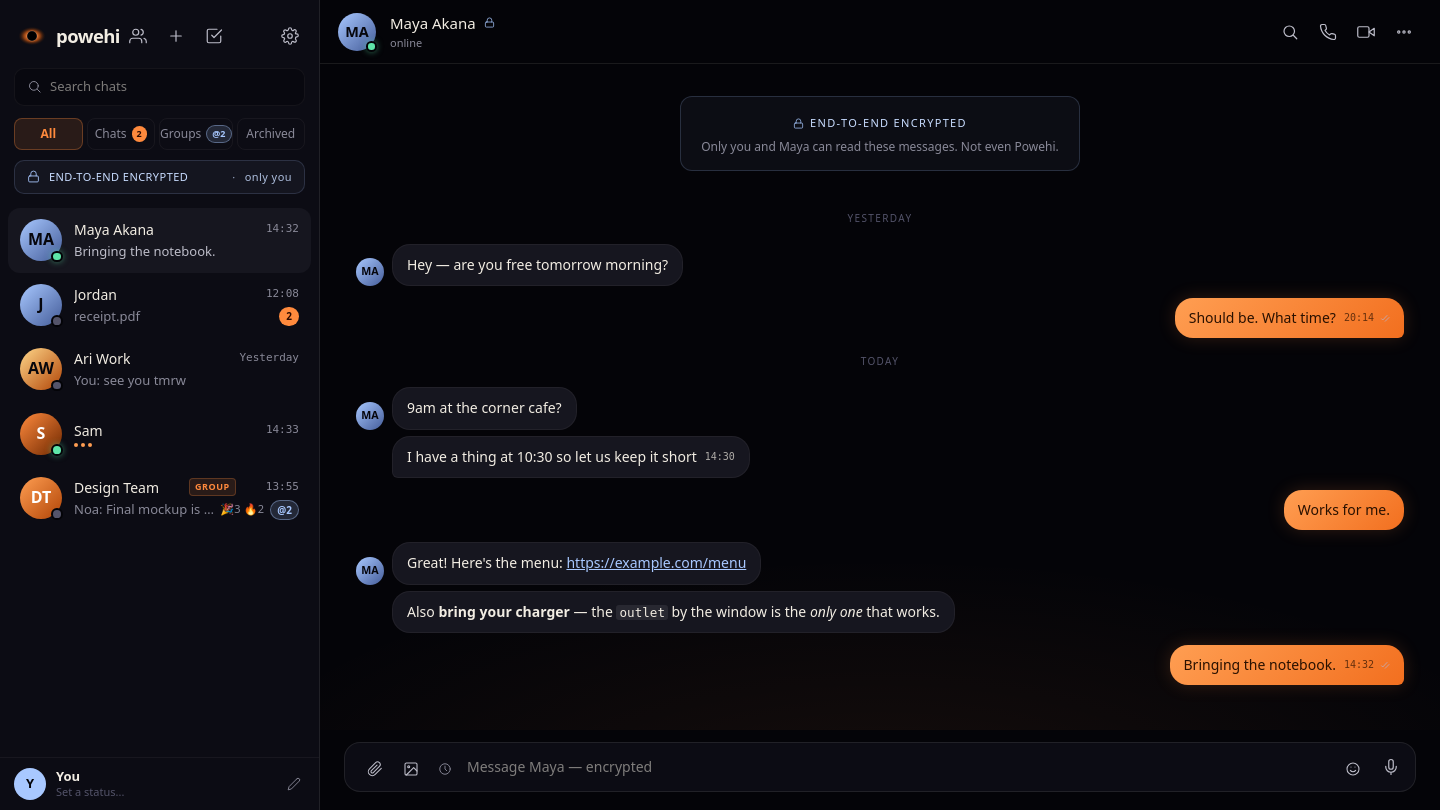
Test: ChatLayout — group poll feature › Cancel closes the poll creator without creating a poll
The image size is (1440, 810).
Step 1. Click the button "DT Design Team GROUP 13:55 Noa: Final mockup is up 🎉3 🔥2 @2" → coordinates (160, 498), box [8,466,311,530]
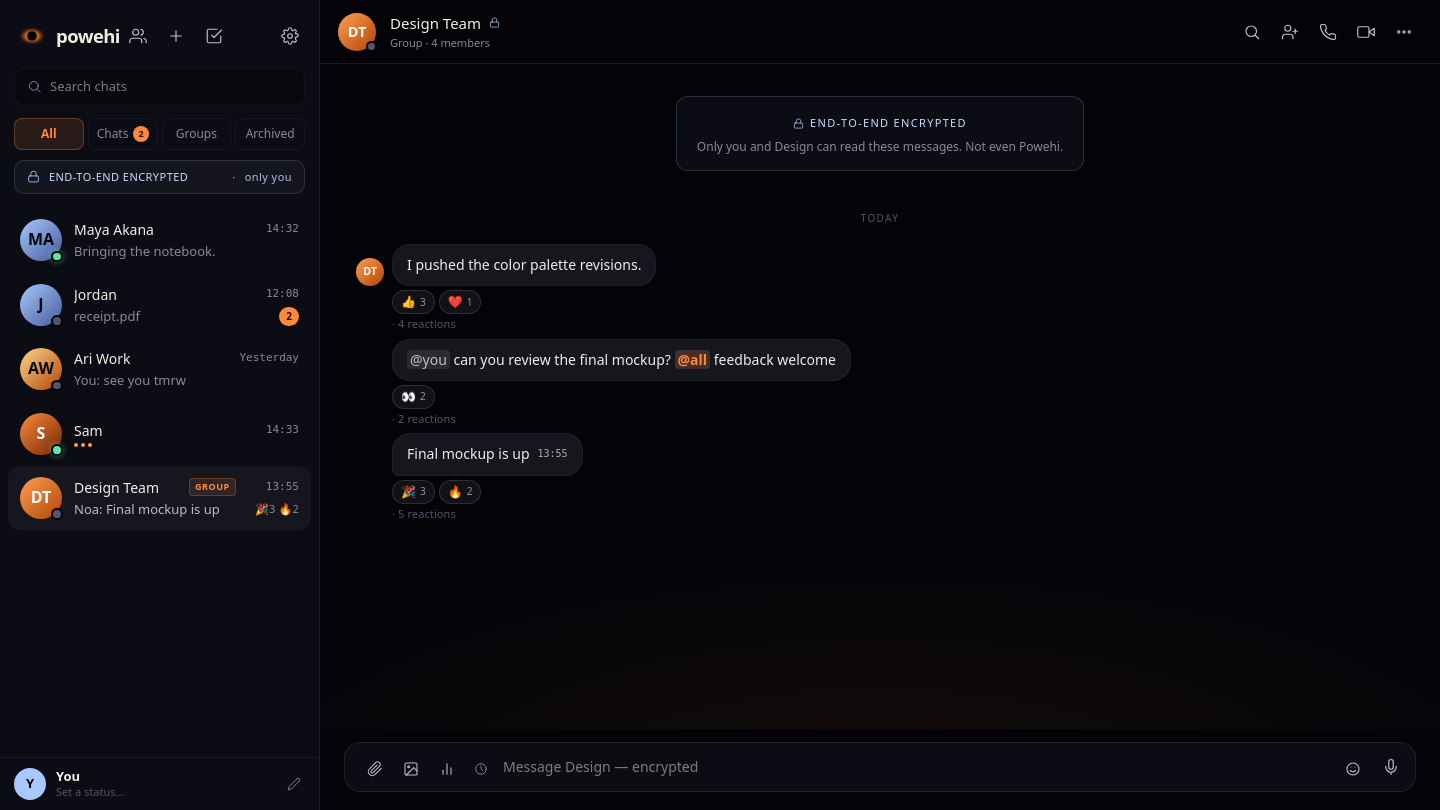
Step 2. Click the button named "Create poll" → coordinates (447, 769), box [431,753,463,785]
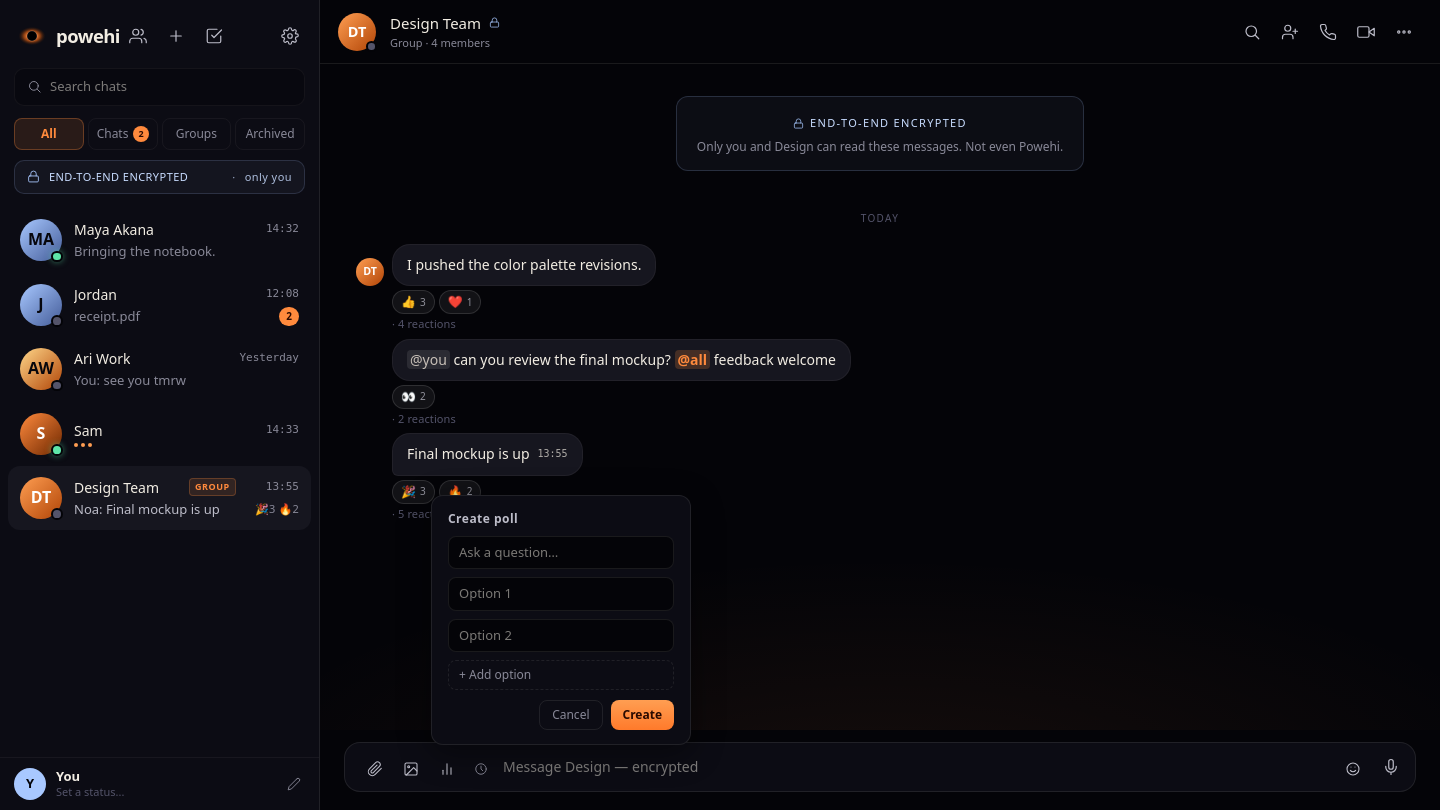
Step 3. Click the button with test id "poll-cancel" → coordinates (571, 715), box [539,700,602,730]
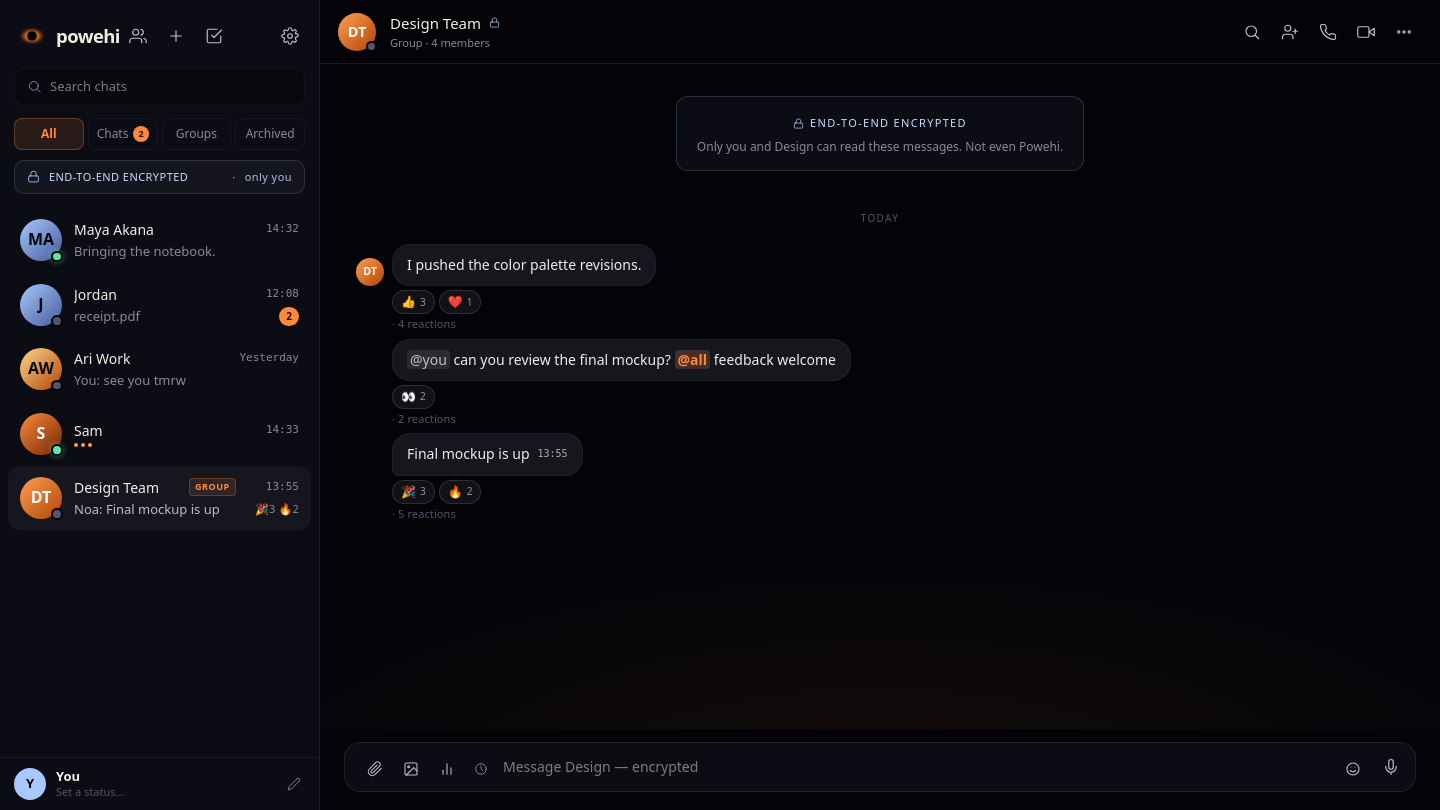
Result: the element with test id "poll-creator" is gone
